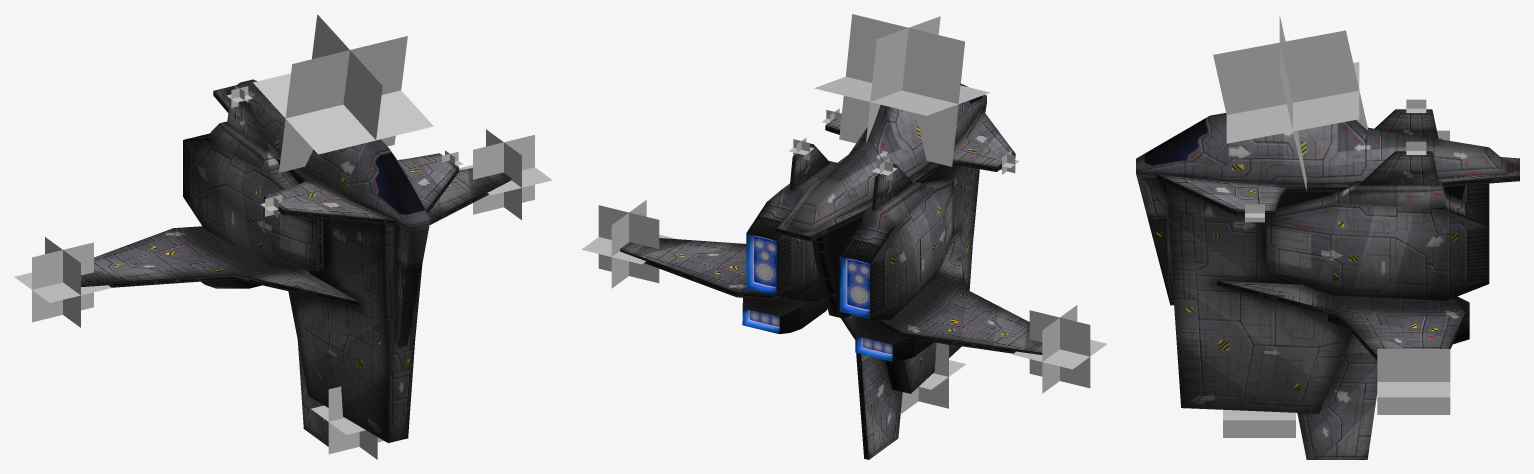
The model's file is admonisher.obj.
The picture shows the model from 3 angles, left to right: view 1: azimuth 30°, elevation 25°; view 2: azimuth 150°, elevation 25°; view 3: azimuth 270°, elevation 25°; orthographic projection. The views are drawn at different scales.
Size of the model in its own units: 47.56 by 38.13 by 30.95.
